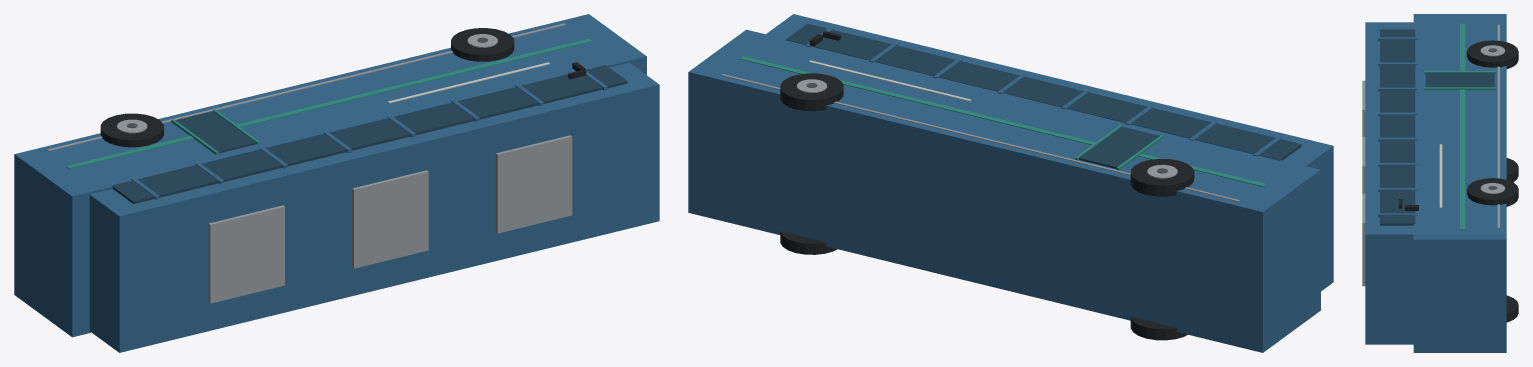
File: RM_Bus_41.glb
3 renders of one model, left to right at view 1: azimuth 30°, elevation 25°; view 2: azimuth 150°, elevation 25°; view 3: azimuth 270°, elevation 25°, orthographic. The views are drawn at different scales.
Parts seen in each view (by area): view 1: part_001, part_000, part_002, part_039, part_038, part_037, part_013, part_040, part_024, part_030, part_014; view 2: part_000, part_002, part_001, part_013, part_040, part_024, part_030, part_014, part_021, part_027; view 3: part_000, part_001, part_002, part_013, part_040, part_024, part_030, part_014, part_039, part_027, part_042, part_021 (+6 smaller).
Boxes of the visible parts, x1,y1,x2,y2 form: part_001: (89, 62, 659, 352); part_000: (14, 14, 646, 337); part_002: (112, 65, 627, 203); part_039: (495, 135, 572, 233); part_038: (352, 170, 428, 268); part_037: (208, 205, 284, 303); part_013: (66, 38, 591, 168); part_040: (175, 111, 256, 153); part_024: (100, 113, 163, 147); part_030: (451, 28, 514, 61); part_014: (47, 23, 565, 151); part_000: (688, 29, 1320, 352); part_002: (786, 23, 1301, 160); part_001: (766, 14, 1333, 291); part_013: (740, 56, 1265, 186); part_040: (1079, 126, 1159, 168); part_024: (1130, 158, 1194, 196); part_030: (780, 73, 843, 111); part_014: (721, 74, 1239, 201); part_021: (1130, 316, 1187, 340); part_027: (780, 231, 837, 254); part_000: (1413, 14, 1506, 352); part_001: (1365, 22, 1413, 344); part_002: (1380, 29, 1415, 225); part_013: (1460, 23, 1465, 229); part_040: (1425, 72, 1494, 87); part_024: (1467, 40, 1518, 68); part_030: (1467, 178, 1518, 206); part_014: (1497, 24, 1499, 228); part_039: (1362, 193, 1365, 286); part_027: (1506, 295, 1518, 322); part_042: (1424, 87, 1496, 90); part_021: (1506, 158, 1518, 182).
Bounding box in the file's own units: 10.8 × 2.85 × 3.16.
